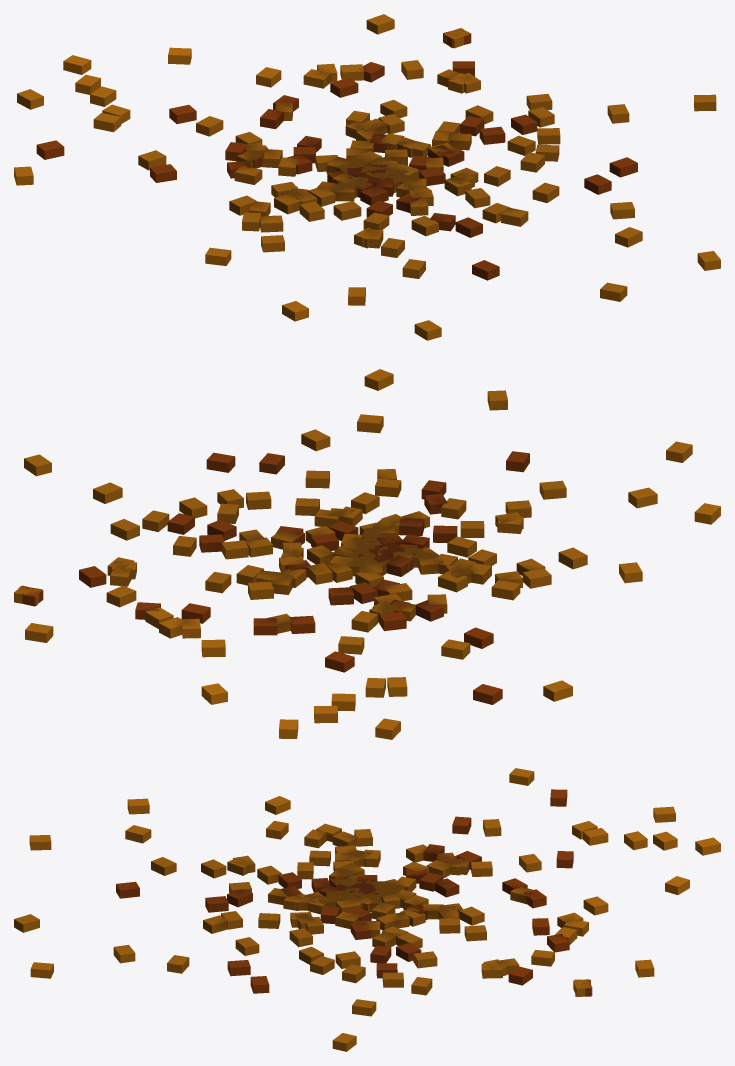
The model's file is fm_grain.glb.
The picture shows the model from 3 angles, top to bottom: view 1: azimuth 30°, elevation 25°; view 2: azimuth 150°, elevation 25°; view 3: azimuth 270°, elevation 25°; orthographic projection. The views are drawn at different scales.
Visible parts, largest first — view 1: fm_grain; view 2: fm_grain; view 3: fm_grain.
Part boxes in pixels (box(x1,y1,x2,y2)): fm_grain: box(14, 14, 720, 340); fm_grain: box(14, 369, 720, 739); fm_grain: box(14, 768, 720, 1051).
Bounding box in the file's own units: 0.571 × 0.008 × 0.619.
